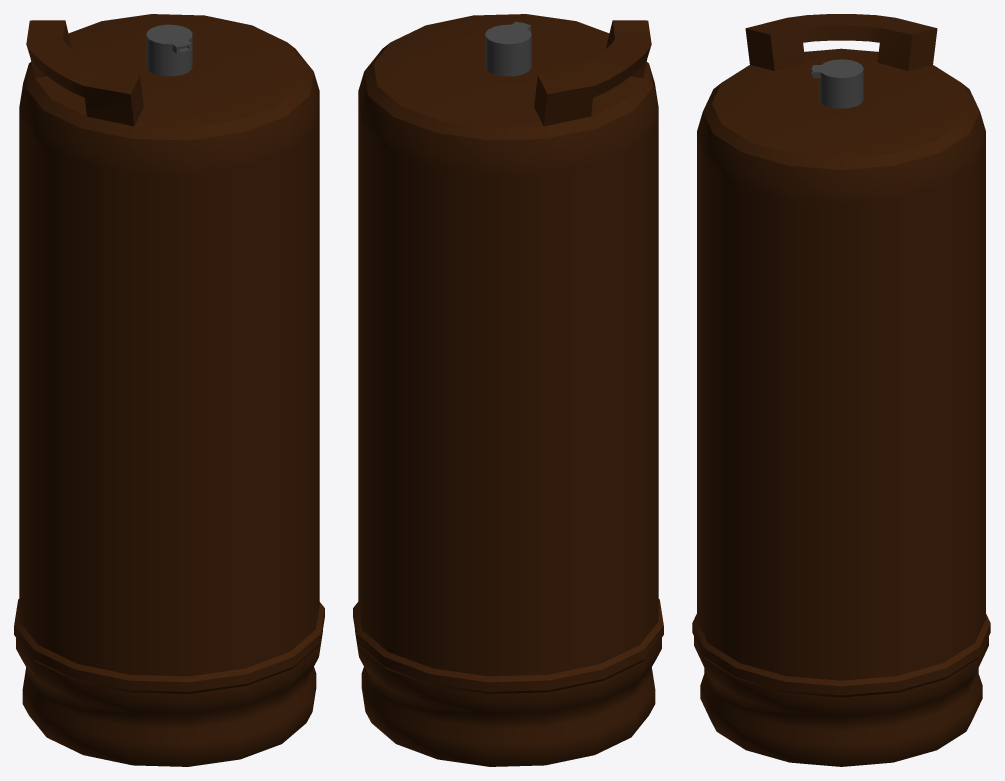
Rendered from gas19.glb.
3 renders of one model, left to right at view 1: azimuth 30°, elevation 25°; view 2: azimuth 150°, elevation 25°; view 3: azimuth 270°, elevation 25°, orthographic. The views are drawn at different scales.
Parts seen in each view (by area): view 1: Gas19; view 2: Gas19; view 3: Gas19.
Part boxes in pixels (x1,y1,x2,y2): Gas19: (14,14,324,766); Gas19: (353,14,663,766); Gas19: (692,14,990,766).
Size of the model in its own units: 2.12 by 5.06 by 2.12.
